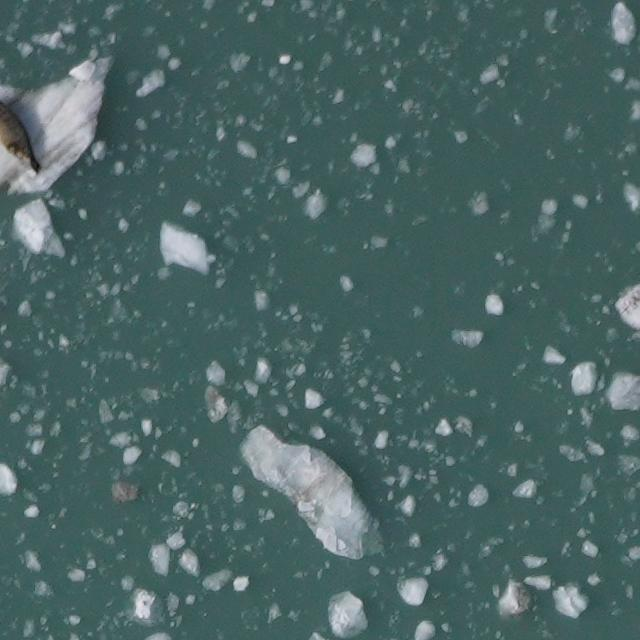seal: (0, 92, 45, 182)
